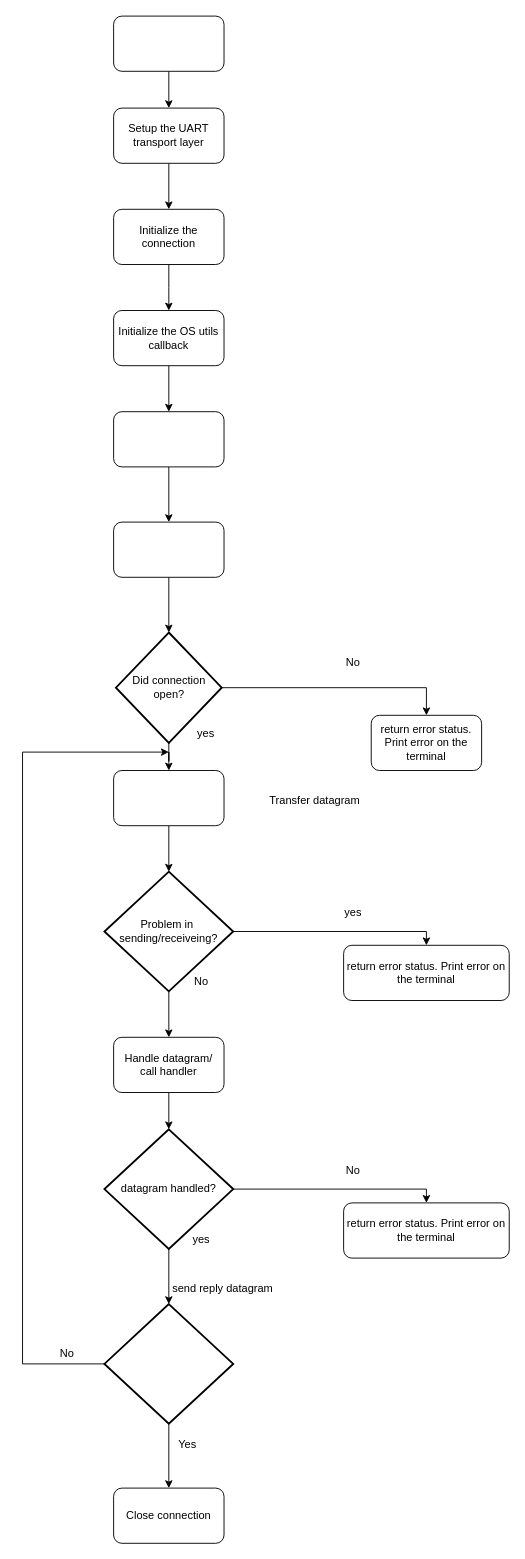
This 525x1559 diagram has some shape labels left out. The centre of each missing label's shape, as x and y in pixels:
"Error sending datagram" goes at (168,1363).
"Initialize the Tasks" goes at (168,439).
"Open the connection" goes at (168,549).
"Send/ Receive datagram" goes at (168,798).
"start" goes at (168,43).
